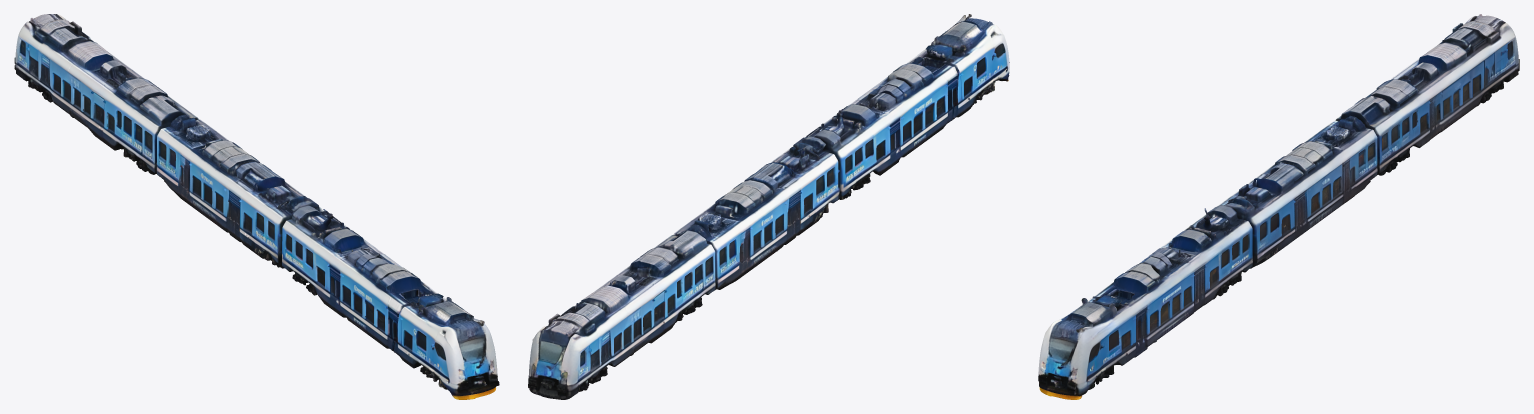
File: Regioshark.glb
3 views of the same model, side by side, from view 1: azimuth 30°, elevation 25°; view 2: azimuth 150°, elevation 25°; view 3: azimuth 330°, elevation 25° (orthographic).
Parts seen in each view (by area): view 1: model; view 2: model; view 3: model.
Part boxes in pixels (bbox=[...]): model: bbox=[14, 14, 499, 399]; model: bbox=[528, 14, 1009, 399]; model: bbox=[1038, 14, 1519, 399].
Bounding box in the file's own units: 2.96 × 4.4 × 44.95.
Materials: 1 (1 with a texture image).
